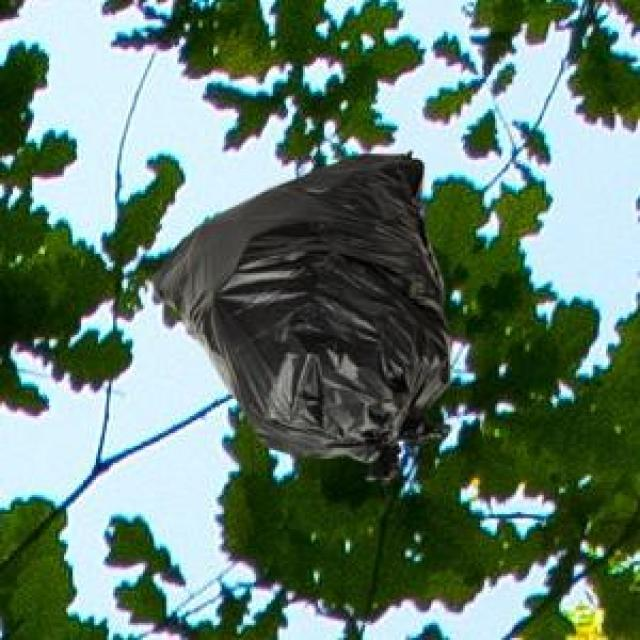Trashbag: (144, 142, 453, 469)
